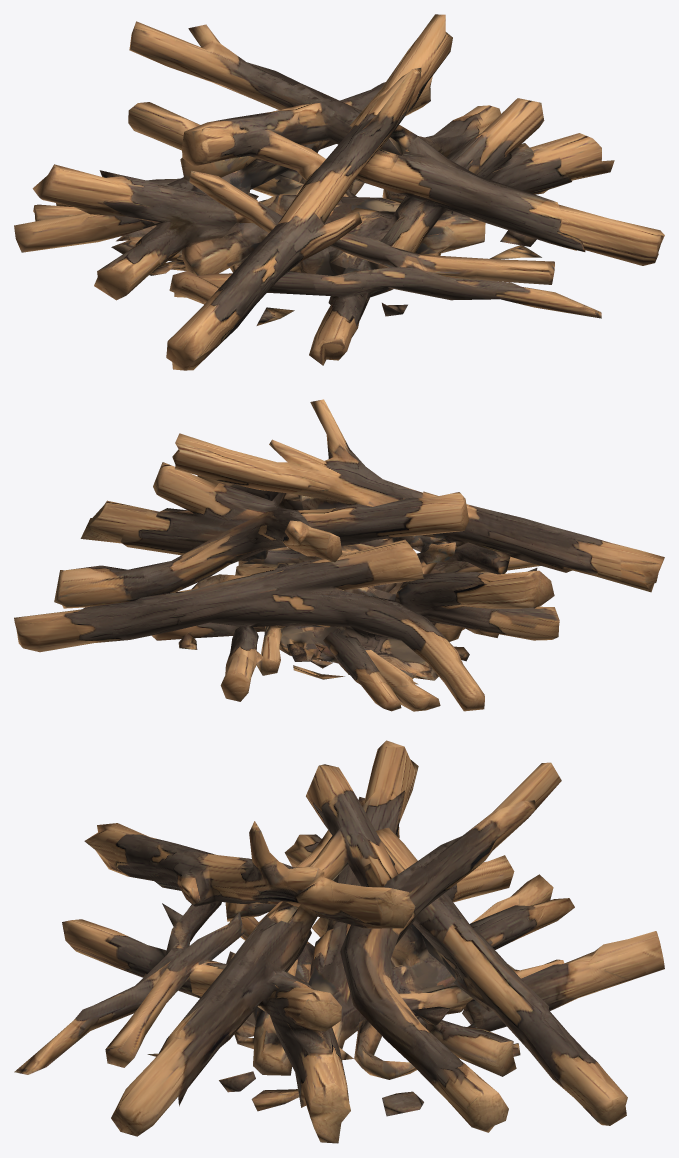
The picture shows the model from 3 angles, top to bottom: view 1: azimuth 30°, elevation 25°; view 2: azimuth 150°, elevation 25°; view 3: azimuth 270°, elevation 25°; orthographic projection. The views are drawn at different scales.
Parts seen in each view (by area): view 1: Mesh_0; view 2: Mesh_0; view 3: Mesh_0.
Part boxes in pixels (box(x1,y1,x2,y2)): Mesh_0: box(14, 14, 664, 370); Mesh_0: box(14, 399, 664, 711); Mesh_0: box(14, 740, 664, 1143).
Size of the model in its own units: 1.91 by 0.6594 by 1.8.
1 material, 1 textured.
